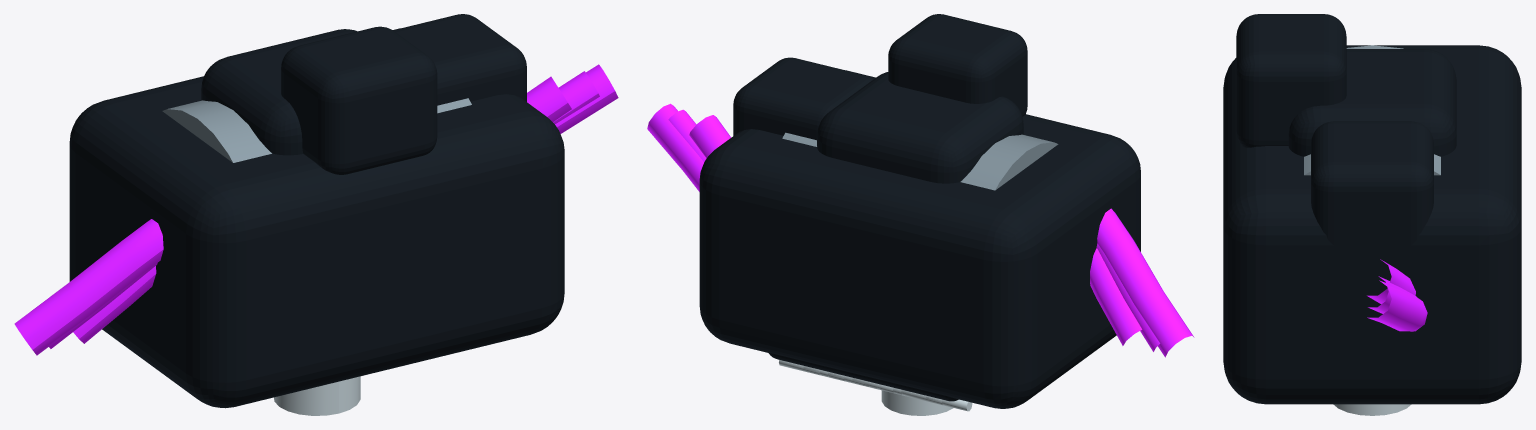
Rendered from electrical_17.glb.
The picture shows the model from 3 angles, left to right: view 1: azimuth 30°, elevation 25°; view 2: azimuth 150°, elevation 25°; view 3: azimuth 270°, elevation 25°; orthographic projection. The views are drawn at different scales.
Visible parts, largest first — view 1: asset_mesh__electrical_0953__reference_body, asset_mesh__electrical_0980__electrical_connector, asset_mesh__electrical_0989__current_path, asset_mesh__electrical_0971__connector, asset_mesh__electrical_0971__sensor_body, asset_mesh__electrical_0980__electromagnetic_housing, asset_mesh__electrical_0977__current_path, asset_mesh__electrical_0971__sensor_probe, asset_mesh__electrical_0979__current_path; view 2: asset_mesh__electrical_0953__reference_body, asset_mesh__electrical_0971__sensor_body, asset_mesh__electrical_0980__electrical_connector, asset_mesh__electrical_0971__connector, asset_mesh__electrical_0989__current_path, asset_mesh__electrical_0977__current_path, asset_mesh__electrical_0980__electromagnetic_housing, asset_mesh__electrical_0979__current_path, asset_mesh__electrical_0971__sensor_probe, asset_mesh__electrical_0985__connector_bank; view 3: asset_mesh__electrical_0953__reference_body, asset_mesh__electrical_0971__connector, asset_mesh__electrical_0980__electrical_connector, asset_mesh__electrical_0971__sensor_body, asset_mesh__electrical_0989__current_path, asset_mesh__electrical_0971__sensor_probe, asset_mesh__electrical_0977__current_path, asset_mesh__electrical_0980__electromagnetic_housing, asset_mesh__electrical_0979__current_path.
Boxes of the visible parts, x1=… form: asset_mesh__electrical_0953__reference_body: x1=69, y1=28, x2=564, y2=408; asset_mesh__electrical_0980__electrical_connector: x1=281, y1=26, x2=437, y2=174; asset_mesh__electrical_0989__current_path: x1=14, y1=64, x2=618, y2=355; asset_mesh__electrical_0971__connector: x1=393, y1=14, x2=526, y2=105; asset_mesh__electrical_0971__sensor_body: x1=201, y1=29, x2=356, y2=155; asset_mesh__electrical_0980__electromagnetic_housing: x1=162, y1=98, x2=471, y2=162; asset_mesh__electrical_0977__current_path: x1=73, y1=76, x2=571, y2=343; asset_mesh__electrical_0971__sensor_probe: x1=274, y1=376, x2=360, y2=415; asset_mesh__electrical_0979__current_path: x1=49, y1=71, x2=599, y2=348; asset_mesh__electrical_0953__reference_body: x1=699, y1=70, x2=1140, y2=408; asset_mesh__electrical_0971__sensor_body: x1=817, y1=72, x2=1023, y2=183; asset_mesh__electrical_0980__electrical_connector: x1=888, y1=14, x2=1027, y2=116; asset_mesh__electrical_0971__connector: x1=733, y1=57, x2=873, y2=140; asset_mesh__electrical_0989__current_path: x1=647, y1=103, x2=1194, y2=357; asset_mesh__electrical_0977__current_path: x1=689, y1=115, x2=1142, y2=345; asset_mesh__electrical_0980__electromagnetic_housing: x1=782, y1=132, x2=1058, y2=190; asset_mesh__electrical_0979__current_path: x1=668, y1=109, x2=1160, y2=351; asset_mesh__electrical_0971__sensor_probe: x1=881, y1=390, x2=953, y2=415; asset_mesh__electrical_0985__connector_bank: x1=768, y1=353, x2=958, y2=401; asset_mesh__electrical_0953__reference_body: x1=1223, y1=45, x2=1521, y2=404; asset_mesh__electrical_0971__connector: x1=1311, y1=121, x2=1433, y2=256; asset_mesh__electrical_0980__electrical_connector: x1=1236, y1=14, x2=1346, y2=147; asset_mesh__electrical_0971__sensor_body: x1=1288, y1=49, x2=1456, y2=156; asset_mesh__electrical_0989__current_path: x1=1367, y1=280, x2=1427, y2=331; asset_mesh__electrical_0971__sensor_probe: x1=1333, y1=404, x2=1411, y2=415; asset_mesh__electrical_0977__current_path: x1=1367, y1=259, x2=1415, y2=304; asset_mesh__electrical_0980__electromagnetic_housing: x1=1304, y1=45, x2=1440, y2=175; asset_mesh__electrical_0979__current_path: x1=1368, y1=276, x2=1417, y2=313.
Size of the model in its own units: 1.73 by 1.04 by 0.7728.
